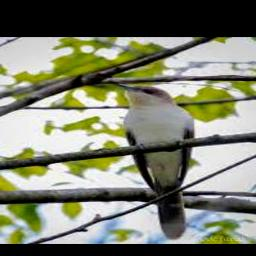Cuckoo: (112, 84, 193, 239)
